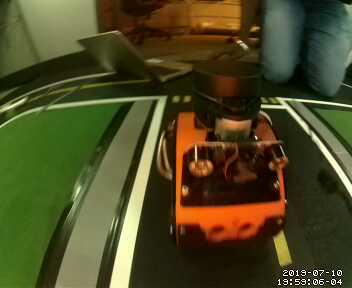pheeno: (165, 61, 288, 245)
